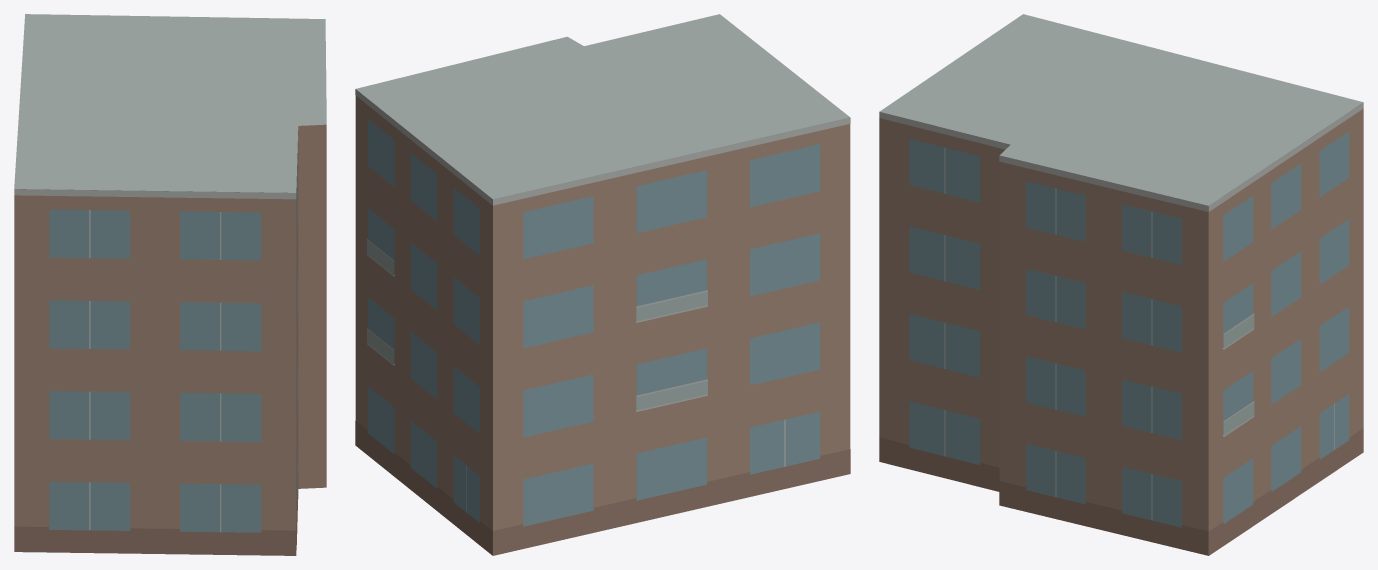
Rendered from survey-upis-32990456.glb.
3 views of the same model, side by side, from view 1: azimuth 30°, elevation 25°; view 2: azimuth 150°, elevation 25°; view 3: azimuth 270°, elevation 25° (orthographic). The views are drawn at different scales.
Visible parts, largest first — view 1: survey-upis-32990456.tmp; view 2: survey-upis-32990456.tmp; view 3: survey-upis-32990456.tmp.
Part boxes in pixels (x1=…): survey-upis-32990456.tmp: x1=14, y1=14, x2=326, y2=555; survey-upis-32990456.tmp: x1=355, y1=14, x2=850, y2=555; survey-upis-32990456.tmp: x1=879, y1=14, x2=1363, y2=555.
Bounding box in the file's own units: 16.17 × 13.75 × 17.25.
